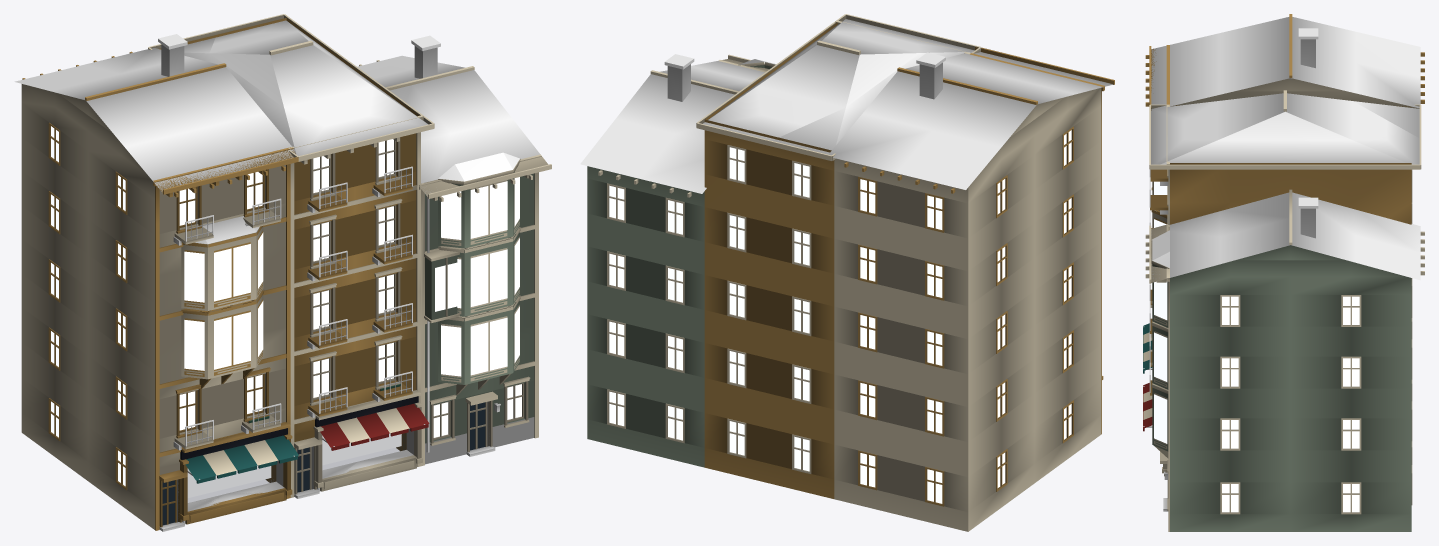
The model's file is bld_ahsap_row_c.glb.
3 renders of one model, left to right at view 1: azimuth 30°, elevation 25°; view 2: azimuth 150°, elevation 25°; view 3: azimuth 270°, elevation 25°, orthographic. The views are drawn at different scales.
Visible parts, largest first — view 1: LOD0; view 2: LOD0; view 3: LOD0.
Part boxes in pixels (x1,y1,x2,y2): LOD0: (14,14,551,531); LOD0: (580,14,1114,531); LOD0: (1143,14,1424,531).
Size of what is drawn, in the model's own units: 18.44 by 18.67 by 12.82.
